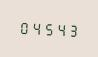five: (42, 19, 53, 37)
four: (30, 19, 41, 36), (54, 20, 65, 37)
three: (66, 20, 77, 38)
zero: (18, 18, 29, 35)
